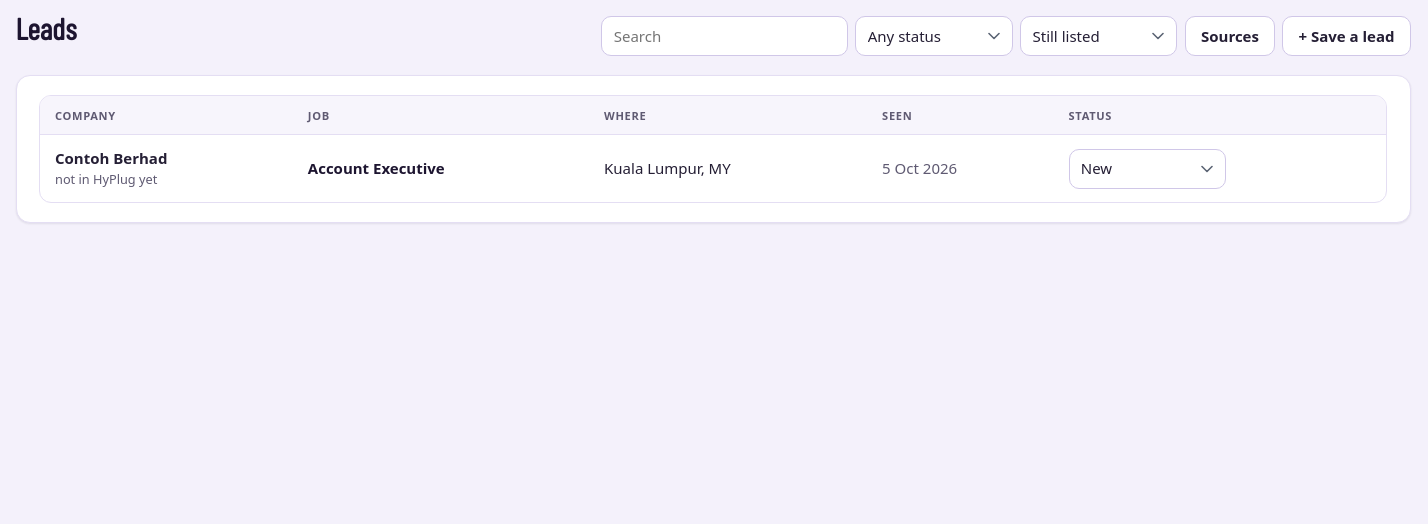
Test: leads › lists leads and sources, with why a check failed
Click the button "Sources".
click(1230, 36)  # box [1185,16,1275,56]
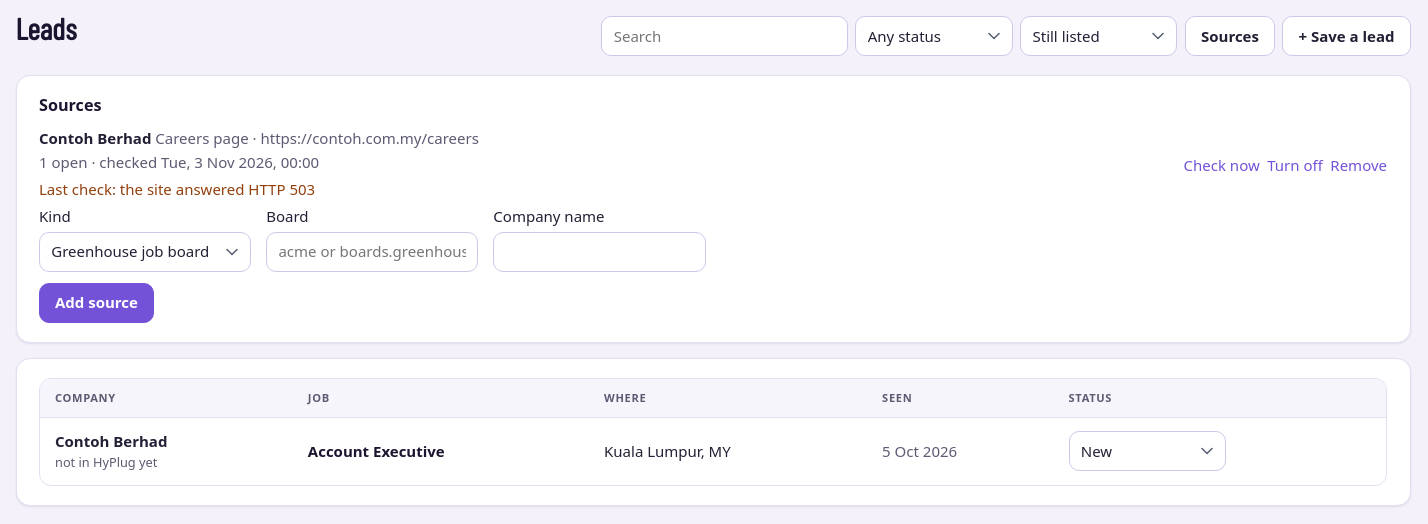
Check: the text "Last check: the site answered HTTP 503" is shown, box [39,179,315,199]
